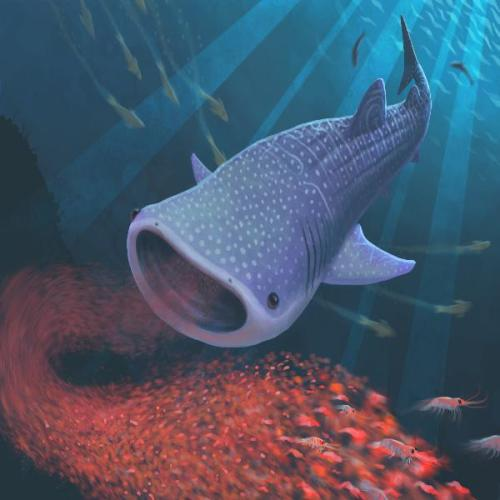shark-endangered: (125, 13, 434, 352)
